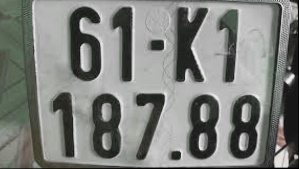Bien-so: (22, 0, 292, 167)
